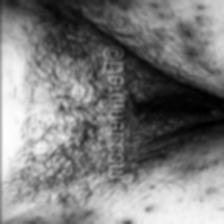Non-Cancerous Skin Condition: (132, 0, 224, 60), (144, 166, 222, 224), (18, 0, 98, 56), (42, 198, 114, 224)
